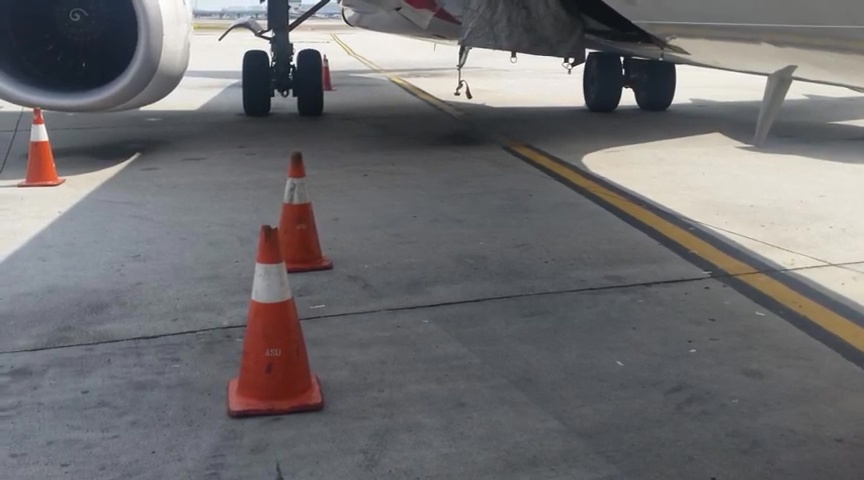safety_cone: (223, 223, 324, 415), (278, 152, 334, 274), (17, 107, 65, 188)
